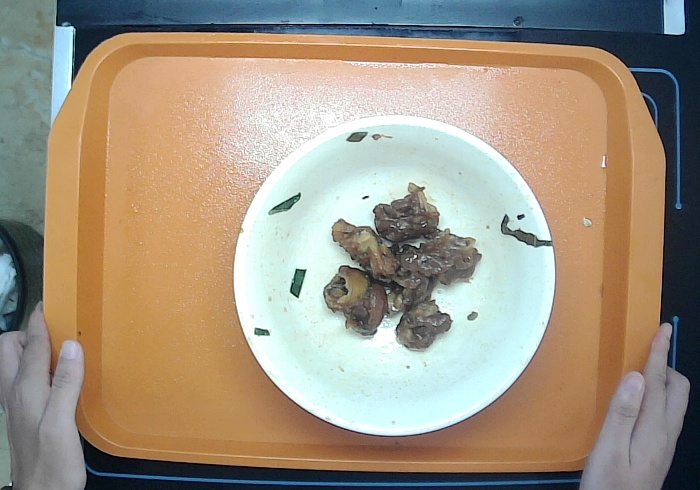ZNLD-Da_Tang_Wan: (230, 112, 558, 438)
